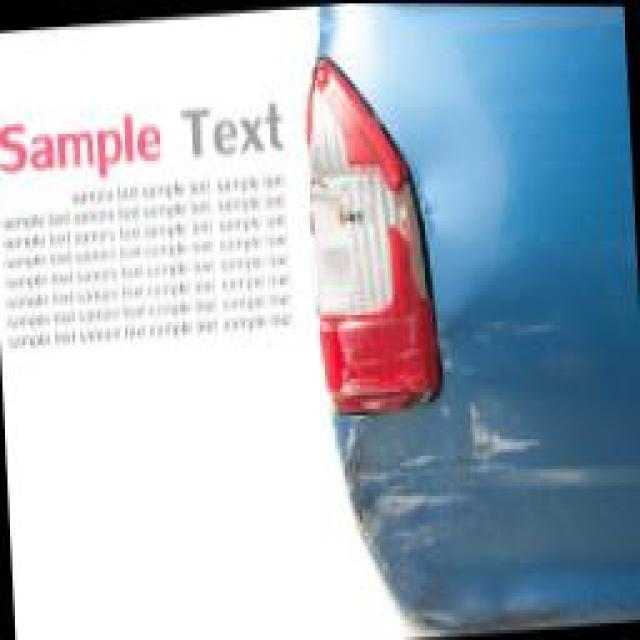Bumper: (332, 315, 582, 595)
Light: (302, 57, 432, 403)
